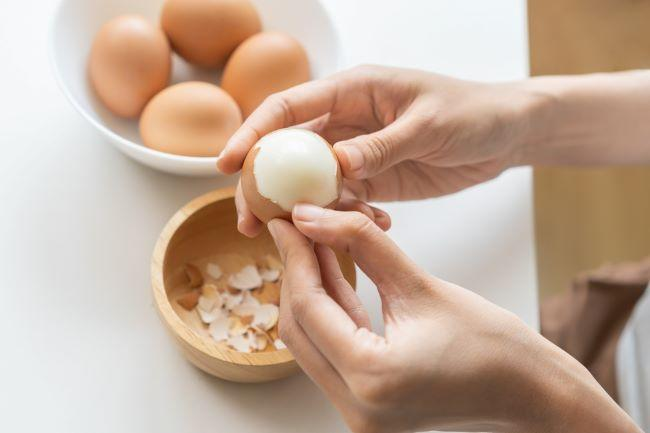telur: (101, 37, 153, 96), (263, 144, 318, 199), (179, 6, 239, 48), (160, 103, 218, 143), (242, 49, 293, 89)
